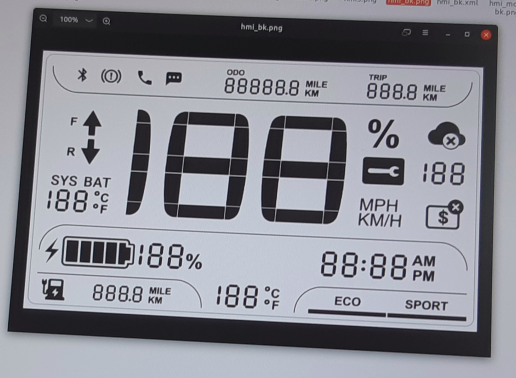bluetooth_on: (75, 65, 90, 84)
braking_on: (99, 66, 124, 84)
calling_on: (134, 67, 155, 86)
connection_lost: (425, 120, 469, 151)
error_code: (359, 154, 406, 187)
low_battery: (39, 275, 69, 302)
sms_on: (163, 69, 185, 88)
vin_id: (423, 197, 465, 232)
